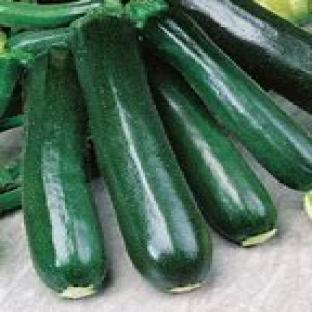Zucchini: (72, 11, 212, 292), (143, 9, 311, 190), (150, 63, 277, 246), (22, 47, 106, 298), (0, 51, 30, 117), (7, 28, 69, 53), (0, 188, 21, 216), (0, 115, 23, 131)
